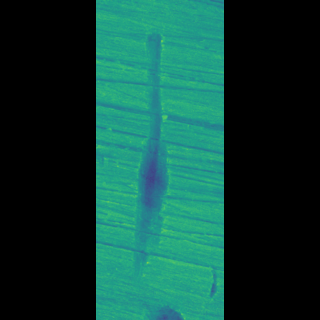Loch: (146, 26, 164, 280)
